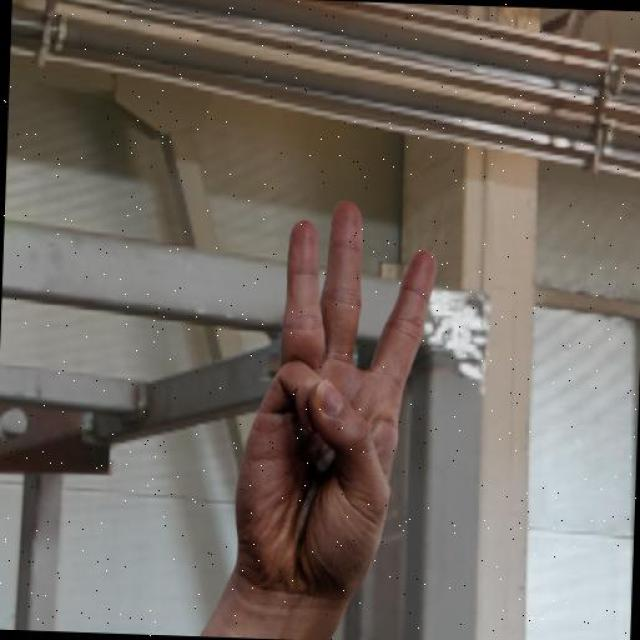W: (224, 191, 436, 618)
